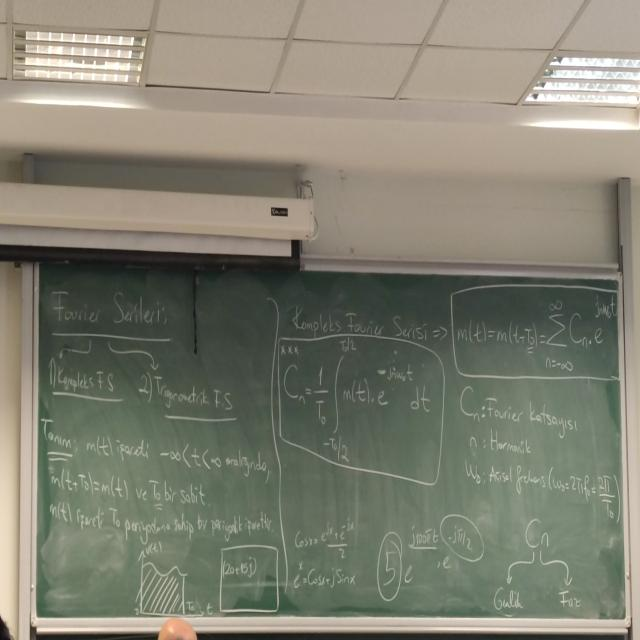image: (132, 540, 213, 617)
math: (334, 337, 433, 436), (541, 290, 618, 372), (288, 509, 360, 594), (401, 524, 474, 590), (280, 356, 334, 430), (48, 462, 130, 505), (454, 313, 538, 354), (157, 439, 223, 481), (323, 432, 351, 468)
text: (49, 499, 275, 541), (49, 280, 164, 334), (293, 307, 430, 337), (488, 392, 578, 437), (154, 371, 239, 415), (48, 355, 119, 401), (132, 474, 209, 511), (84, 430, 152, 465), (487, 460, 548, 494), (38, 412, 76, 454), (222, 450, 268, 478), (489, 432, 534, 458), (491, 583, 525, 615), (556, 583, 582, 614)
